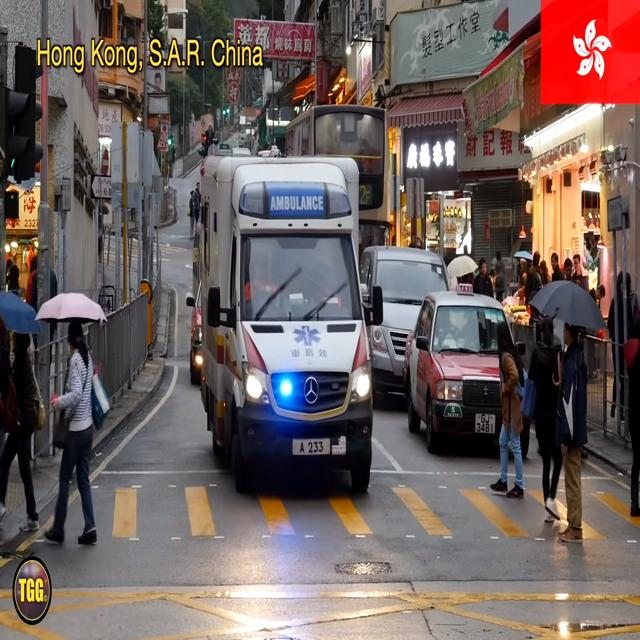emergency-vehicles: (177, 134, 385, 493)
